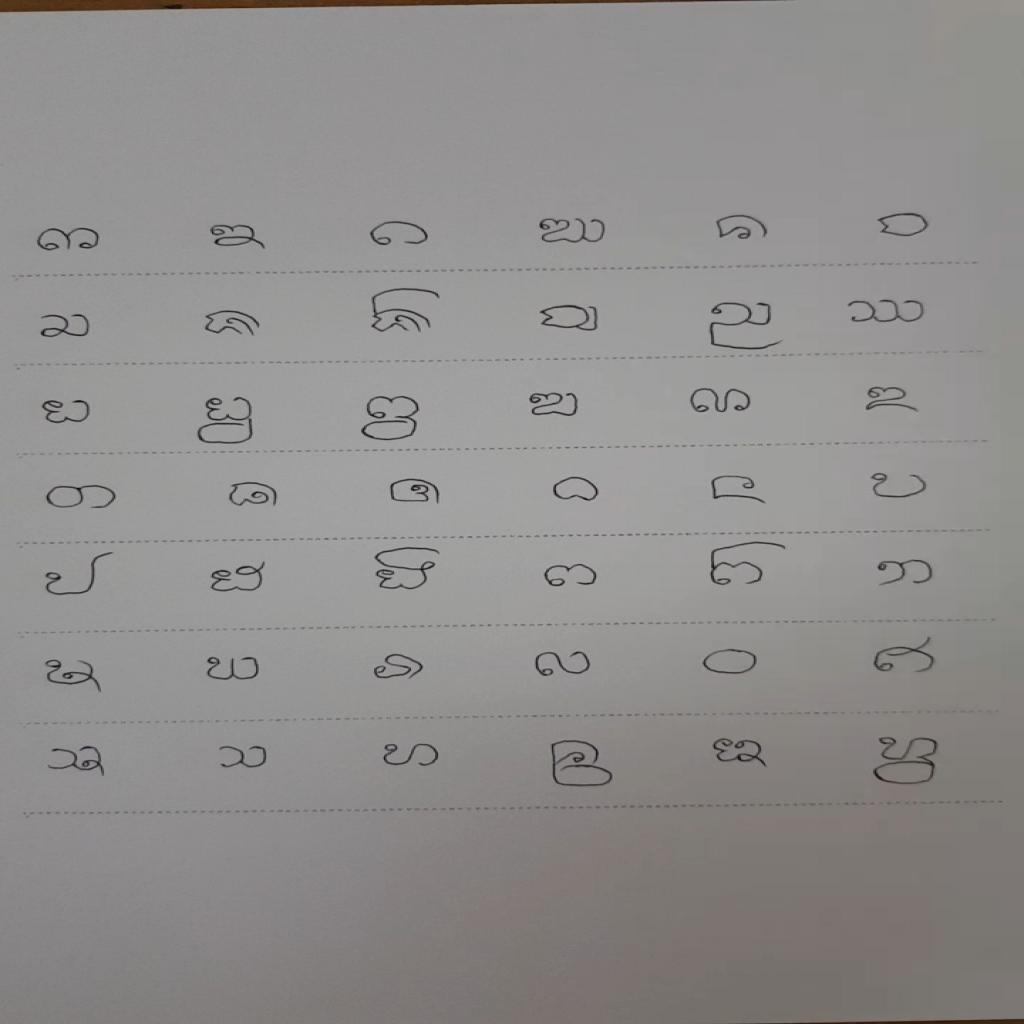LN001: (33, 225, 105, 255)
LN002: (204, 222, 270, 252)
LN003: (366, 220, 434, 250)
LN004: (535, 217, 611, 247)
LN005: (712, 214, 773, 244)
LN006: (874, 211, 933, 241)
LN007: (37, 312, 95, 342)
LN008: (199, 309, 264, 342)
LN009: (366, 286, 445, 338)
LN010: (536, 303, 604, 335)
LN011: (705, 299, 785, 354)
LN012: (841, 296, 931, 328)
LN013: (39, 396, 96, 428)
LN014: (192, 394, 261, 448)
LN015: (358, 394, 424, 444)
LN016: (526, 390, 584, 421)
LN017: (686, 386, 759, 418)
LN018: (856, 386, 923, 415)
LN019: (40, 482, 122, 512)
LN020: (223, 480, 283, 511)
LN021: (384, 477, 446, 507)
LN022: (549, 475, 602, 503)
LN023: (705, 473, 771, 506)
LN024: (864, 470, 934, 502)
LN025: (41, 550, 117, 600)
LN026: (208, 559, 270, 597)
LN027: (369, 545, 445, 595)
LN028: (541, 562, 601, 591)
LN029: (704, 539, 791, 589)
LN030: (871, 557, 939, 589)
LN031: (39, 656, 108, 696)
LN032: (198, 655, 267, 684)
LN033: (367, 651, 430, 683)
LN034: (529, 648, 597, 681)
LN035: (699, 646, 765, 678)
LN036: (869, 636, 942, 679)
LN037: (42, 744, 111, 780)
LN038: (210, 743, 277, 773)
LN039: (379, 741, 447, 772)
LN040: (542, 738, 619, 790)
LN041: (709, 736, 772, 772)
LN042: (871, 734, 943, 789)
